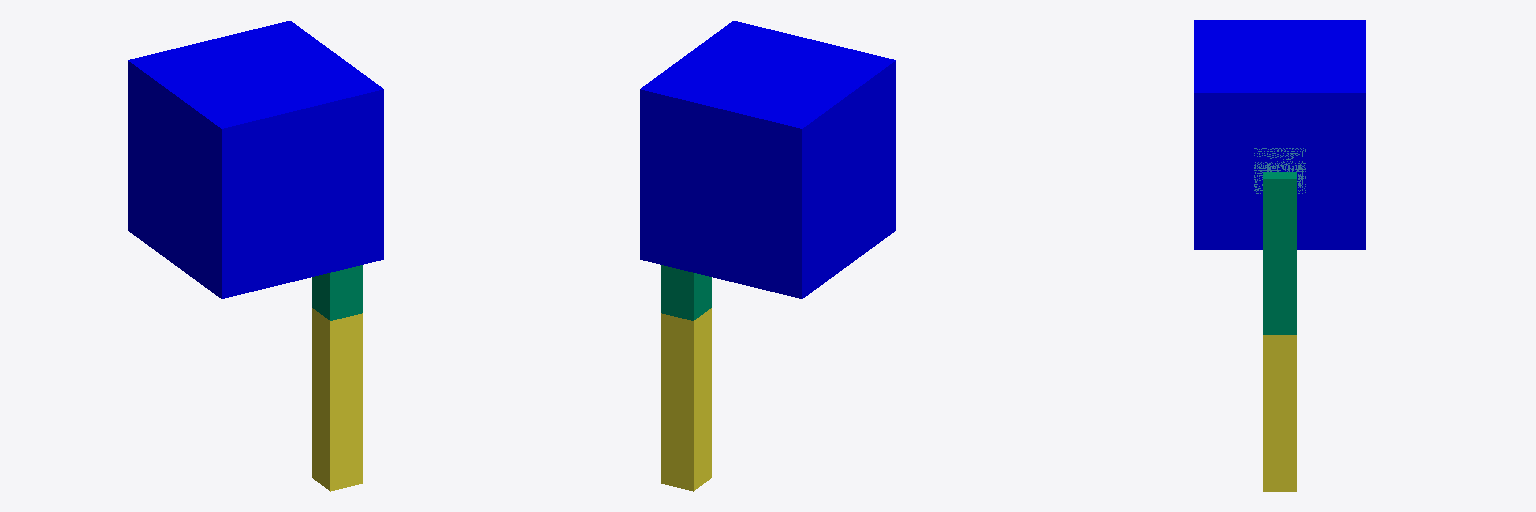
robot.urdf — single_leg:
<?xml version="1.0"?>
<robot name="single_leg">

  <link name="base_link">
    <visual>
      <geometry><box size="0.1 0.1 0.1"/></geometry>
      <material name="blue"><color rgba="0 0 1 1"/></material>
    </visual>
  </link>

  <joint name="hip_joint" type="revolute">
    <parent link="base_link"/>
    <child link="coxa_link"/>
    <origin xyz="0 0 0"/>
    <axis xyz="0 0 1"/>
    <limit lower="-1.57" upper="1.57" effort="10" velocity="1"/>
  </joint>

  <link name="coxa_link">
    <visual>
      <origin xyz="0.025 0 0"/>
      <geometry><box size="0.05 0.03 0.03"/></geometry>
    </visual>
  </link>

  <joint name="thigh_joint" type="revolute">
    <parent link="coxa_link"/>
    <child link="femur_link"/>
    <origin xyz="0.05 0 0"/>
    <axis xyz="0 1 0"/>
    <limit lower="-1.57" upper="1.57" effort="10" velocity="1"/>
  </joint>

  <link name="femur_link">
    <visual>
      <origin xyz="0 0 -0.05"/>
      <geometry><box size="0.02 0.02 0.1"/></geometry>
    </visual>
  </link>

  <joint name="knee_joint" type="revolute">
    <parent link="femur_link"/>
    <child link="tibia_link"/>
    <origin xyz="0 0 -0.1"/>
    <axis xyz="0 1 0"/>
    <limit lower="-2.5" upper="0" effort="10" velocity="1"/>
  </joint>

  <link name="tibia_link">
    <visual>
      <origin xyz="0 0 -0.05"/>
      <geometry><box size="0.02 0.02 0.1"/></geometry>
    </visual>
  </link>

</robot>

--- Render facts (derived) ---
3 views of the same robot in one strip: view 1: azimuth 30°, elevation 25°; view 2: azimuth 150°, elevation 25°; view 3: azimuth 270°, elevation 25° (orthographic).
Robot: single_leg — 4 links, 3 joints (3 revolute); root link base_link; default pose: all joints at 0.
Links seen in each view (by area): view 1: base_link, tibia_link, femur_link; view 2: base_link, tibia_link, femur_link; view 3: base_link, femur_link, tibia_link, coxa_link.
Boxes of the visible links, box(x1,y1,x2,y2) form: base_link: box(128, 21, 383, 298); tibia_link: box(312, 308, 362, 491); femur_link: box(312, 265, 362, 320); base_link: box(640, 21, 895, 298); tibia_link: box(661, 308, 711, 491); femur_link: box(661, 265, 711, 320); base_link: box(1194, 20, 1365, 249); femur_link: box(1263, 172, 1296, 334); tibia_link: box(1263, 335, 1296, 491); coxa_link: box(1254, 148, 1305, 193).
Bounding box of the posed robot: 0.11 × 0.1 × 0.25 m (x, y, z).
Geometry: primitives only (box / cylinder / sphere), no mesh files.